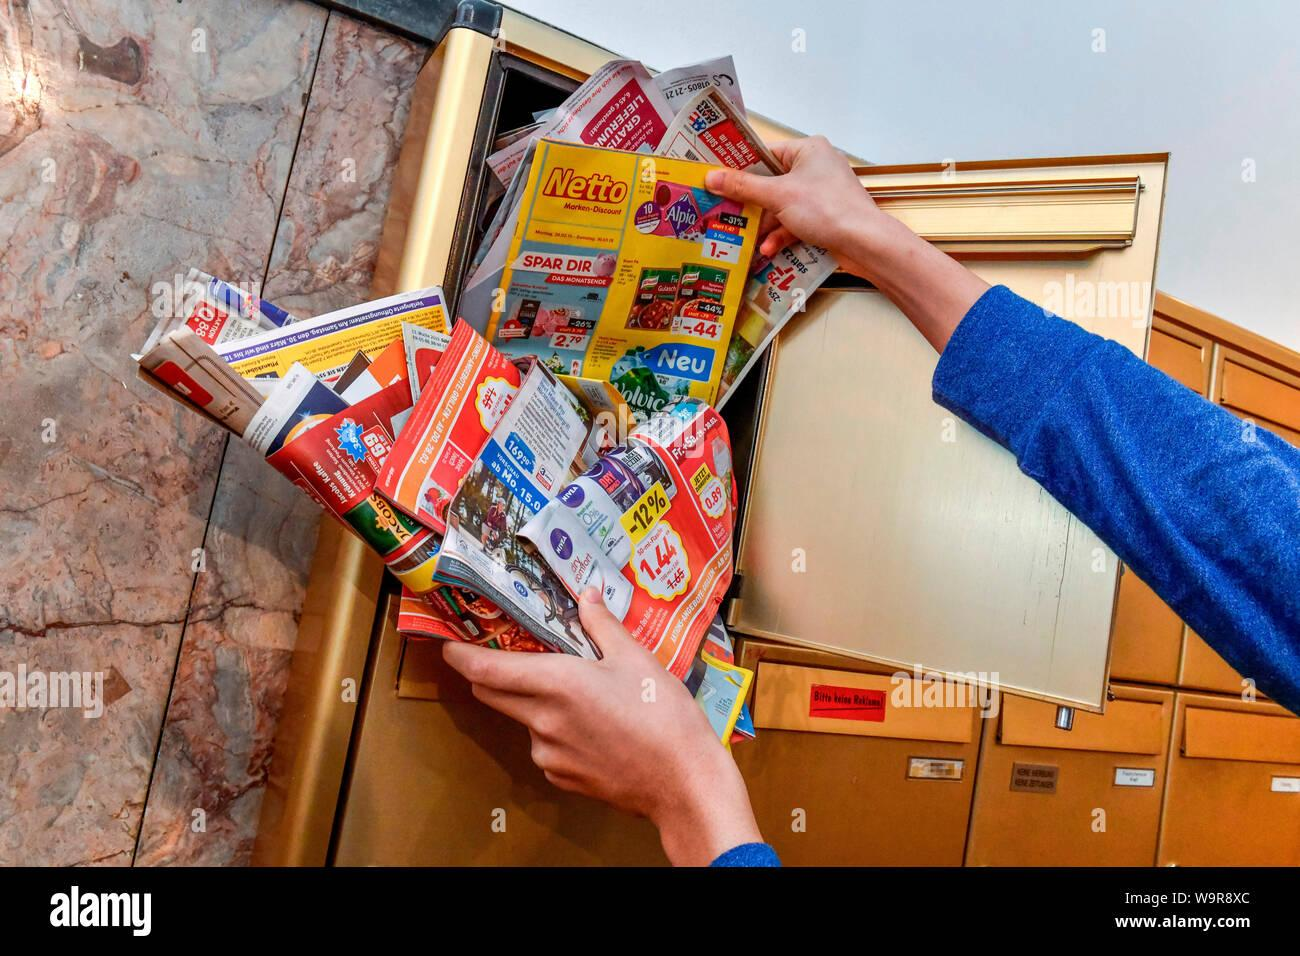cardboard: (140, 281, 447, 450)
paper: (397, 366, 734, 678), (458, 140, 760, 414)
